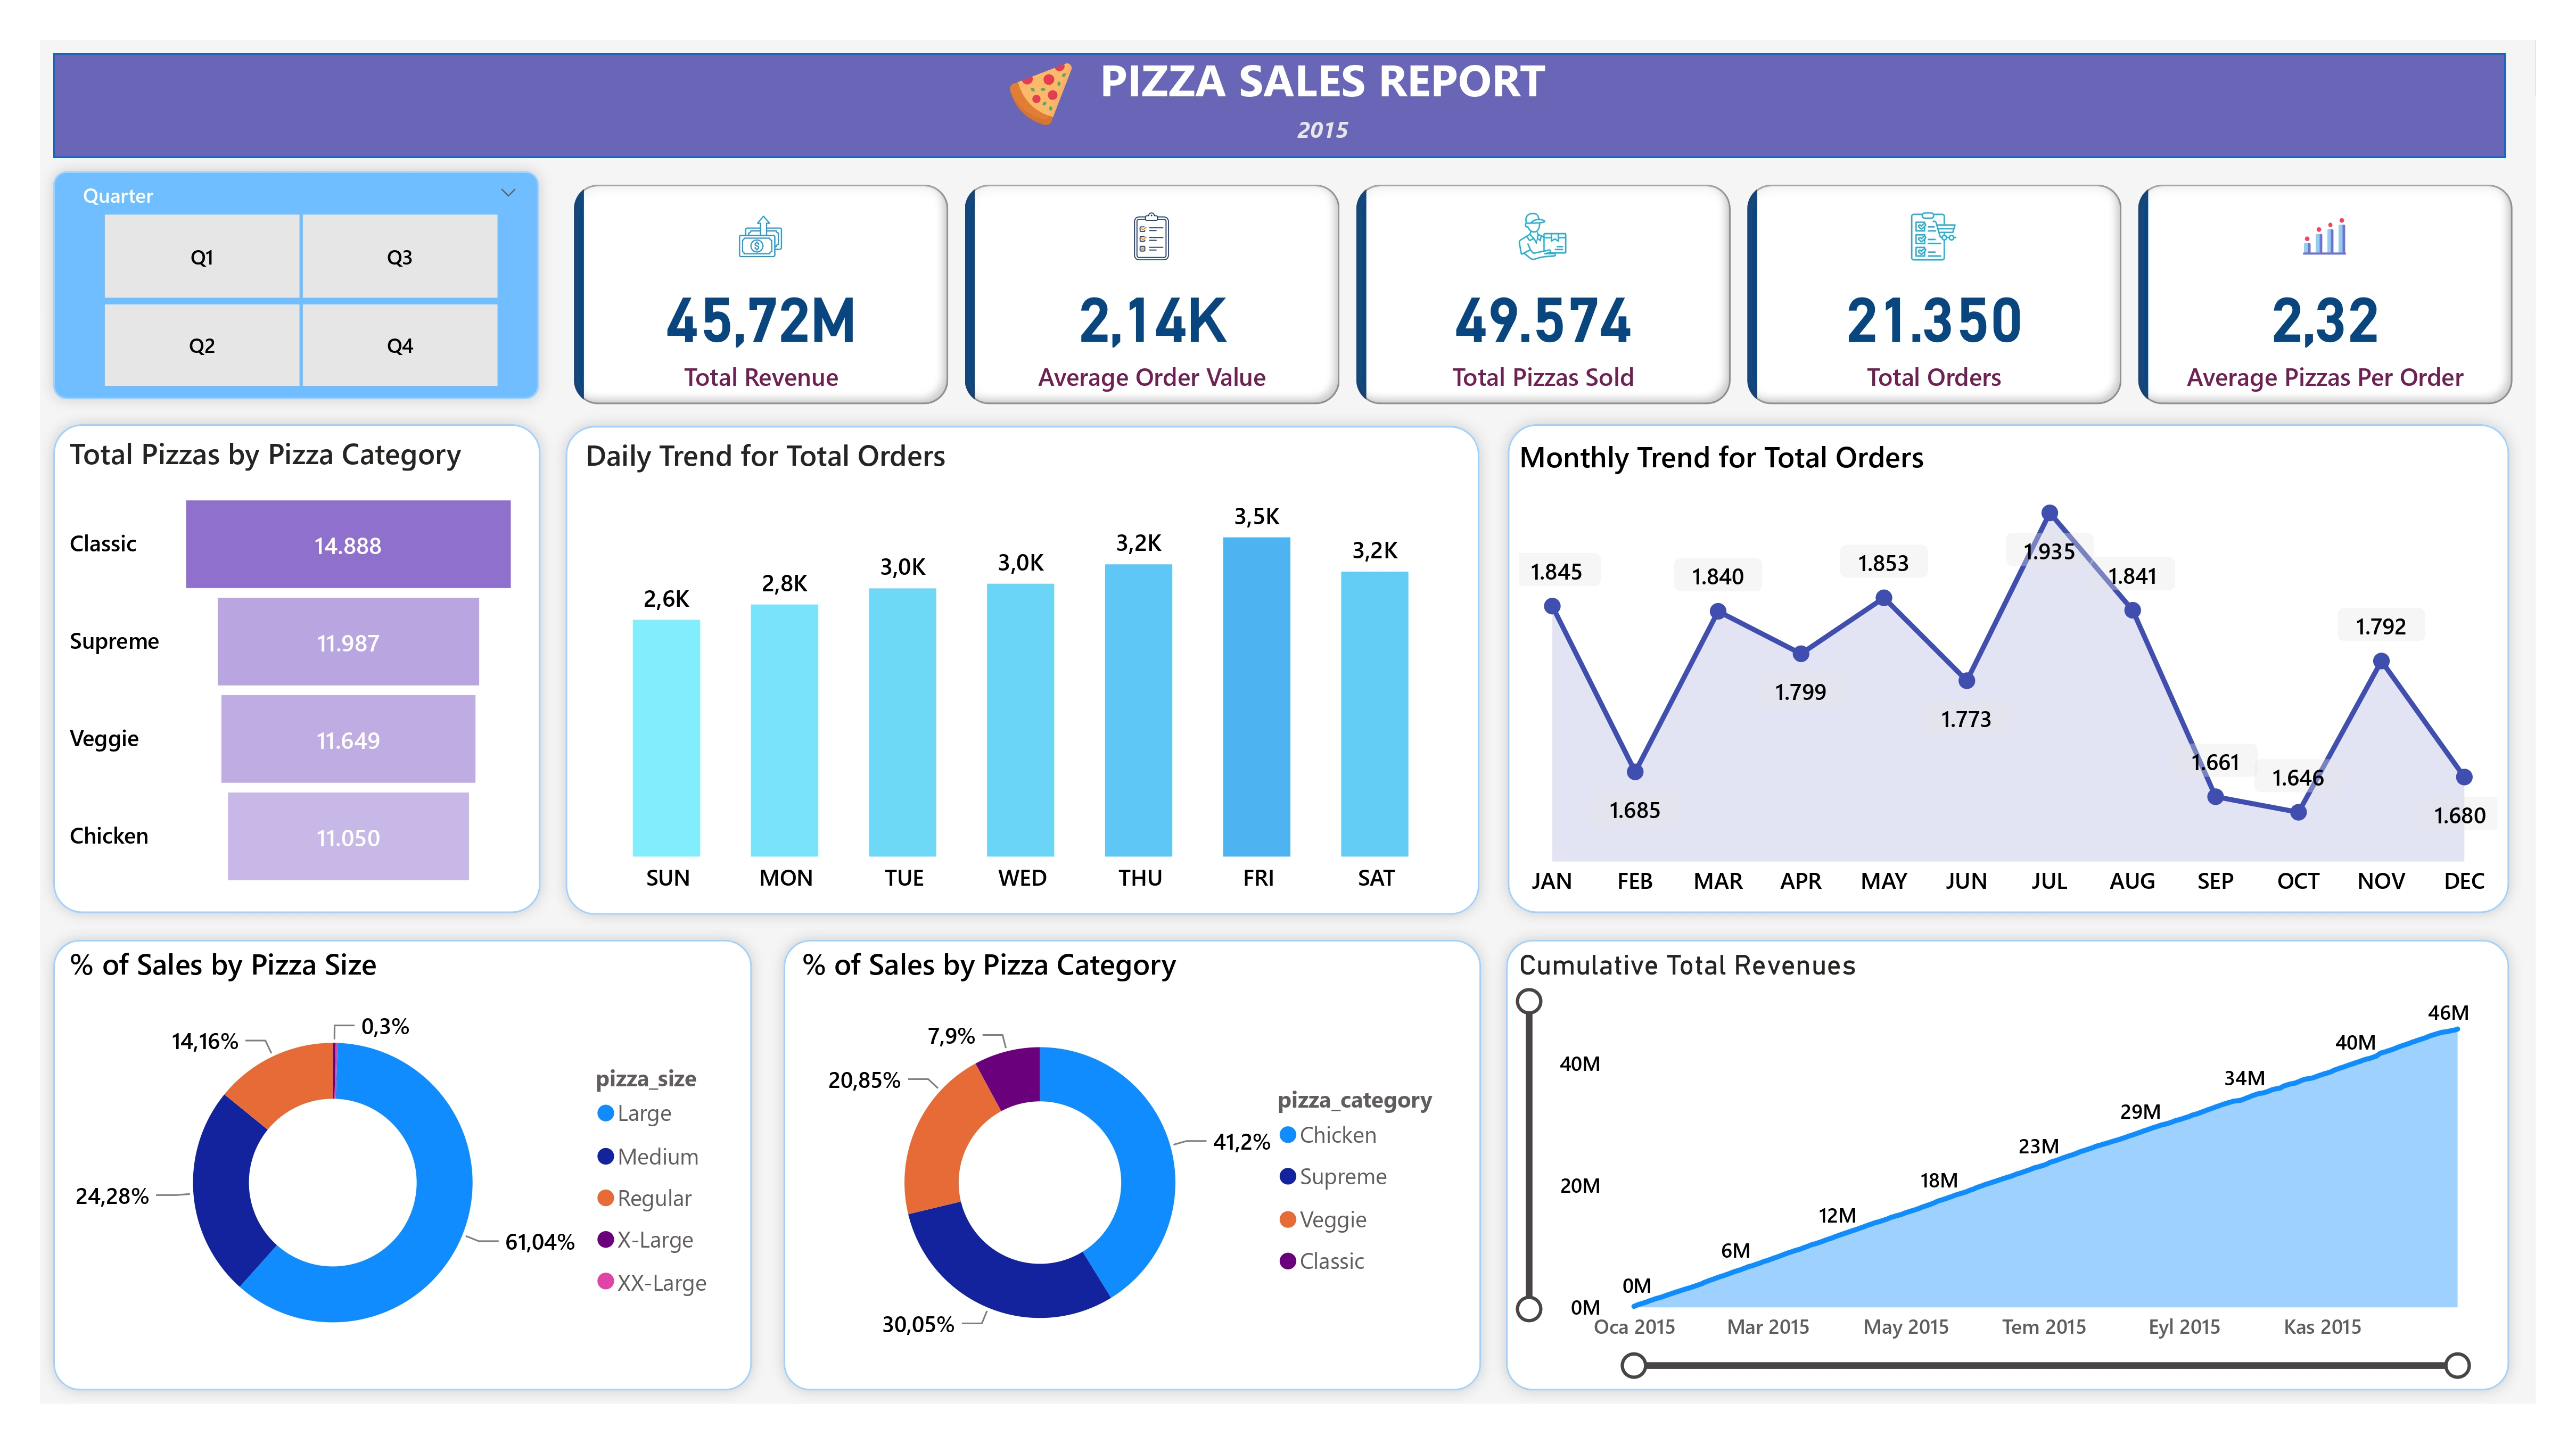

The page's visual inventory and layout, read from the dashboard file:
{"tool":"powerbi","page":{"name":"Sales Analysis","canvas":[1500,820],"ordinal":0},"visuals":[{"type":"shape","box":[0,71.4,308,153],"z":0},{"type":"shape","box":[0,533.3,435.6,286.7],"z":1000},{"type":"shape","box":[873,533.4,619.1,286.6],"z":2000},{"type":"cardVisual","fields":{"Data":["Key Measures.Total Revenue","Key Measures.Average Order Value","Key Measures.Total Pizzas Sold","Key Measures.Total Orders","Key Measures.Average Pizzas Per Order"]},"box":[316.2,81.6,1175.9,142.8],"z":3000},{"type":"shape","box":[7.8,7.8,1474.4,63.3],"z":4000},{"type":"textbox","box":[625.6,0,290,45.6],"z":5000},{"type":"textbox","box":[710.9,39.8,120.3,28.6],"z":6000},{"type":"image","box":[577,7,49,50],"z":7000},{"type":"shape","box":[307.9,224.4,565,310],"z":8000},{"type":"columnChart","title":"Daily Trend for Total Orders","fields":{"Category":["pizza_sales.Order Day"],"Y":["Key Measures.Total Orders"]},"box":[322.9,236.9,535,285],"z":9000},{"type":"shape","box":[874.1,223.4,618.1,310],"z":10000},{"type":"areaChart","title":"Monthly Trend for Total Orders","fields":{"Y":["Key Measures.Total Orders"],"Category":["pizza_sales.Order Month"]},"box":[884.3,237.6,597.7,286.6],"z":11000},{"type":"shape","box":[438.9,533.3,435.6,286.7],"z":12000},{"type":"shape","box":[0,223.3,308.9,310],"z":13000},{"type":"donutChart","title":"% of Sales by Pizza Category","fields":{"Category":["pizza_sales.pizza_category"],"Y":["Key Measures.Total Revenue"]},"box":[453.3,543.3,405.6,264.4],"z":14000},{"type":"donutChart","title":"% of Sales by Pizza Size","fields":{"Y":["Key Measures.Total Revenue"],"Category":["pizza_sales.pizza_size"]},"box":[13.3,543.3,405.6,264.4],"z":15000},{"type":"funnel","title":"Total Pizzas by Pizza Category","fields":{"Category":["pizza_sales.pizza_category"],"Y":["Key Measures.Total Pizzas Sold"]},"box":[13.3,235.6,280,286.7],"z":16000},{"type":"slicer","fields":{"Values":["pizza_sales.Quarter"]},"box":[13.3,79.6,285.6,135.6],"z":17000},{"type":"areaChart","title":"Cumulative Total Revenues","fields":{"Category":["pizza_sales.order_date"],"Y":["Key Measures.Cumulative Totals"]},"box":[884.3,545.6,597.7,262.1],"z":18000}]}

Visuals, with their boxes in screenshot pixels (x1, y1, x2, y2):
shape: Rect(40, 159, 553, 413)
shape: Rect(40, 927, 765, 1404)
shape: Rect(1493, 927, 2523, 1404)
cardVisual - Key Measures.Total Revenue x Key Measures.Average Order Value: Rect(566, 176, 2523, 413)
shape: Rect(53, 53, 2506, 158)
textbox: Rect(1081, 40, 1563, 116)
textbox: Rect(1223, 106, 1423, 154)
image: Rect(1000, 52, 1082, 135)
shape: Rect(553, 413, 1493, 929)
"Daily Trend for Total Orders" columnChart: Rect(577, 434, 1468, 908)
shape: Rect(1494, 411, 2523, 927)
"Monthly Trend for Total Orders" areaChart: Rect(1511, 435, 2506, 912)
shape: Rect(770, 927, 1495, 1404)
shape: Rect(40, 411, 554, 927)
"% of Sales by Pizza Category" donutChart: Rect(794, 944, 1469, 1384)
"% of Sales by Pizza Size" donutChart: Rect(62, 944, 737, 1384)
"Total Pizzas by Pizza Category" funnel: Rect(62, 432, 528, 909)
slicer - pizza_sales.Quarter: Rect(62, 172, 537, 398)
"Cumulative Total Revenues" areaChart: Rect(1511, 947, 2506, 1384)
